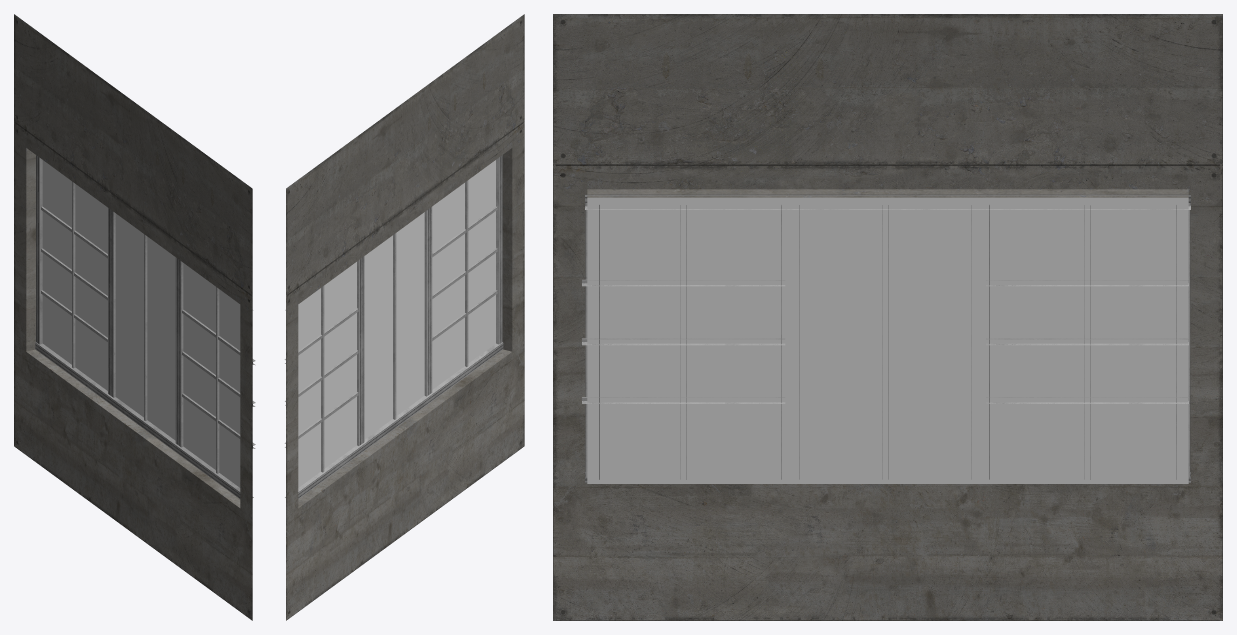
Rendered from CP_Showcase_B_4x4m_01.fbx.
3 views of the same model, side by side, from view 1: azimuth 30°, elevation 25°; view 2: azimuth 150°, elevation 25°; view 3: azimuth 270°, elevation 25° (orthographic). The views are drawn at different scales.
Visible parts, largest first — view 1: CP_Showcase_B_4x4m_01; view 2: CP_Showcase_B_4x4m_01; view 3: CP_Showcase_B_4x4m_01.
Boxes of the visible parts, left/top/right/bottom form: CP_Showcase_B_4x4m_01: left=14, top=14, right=255, bottom=620; CP_Showcase_B_4x4m_01: left=284, top=14, right=524, bottom=620; CP_Showcase_B_4x4m_01: left=553, top=14, right=1222, bottom=620.
Bounding box in the file's own units: 13.14 × 400 × 400.
